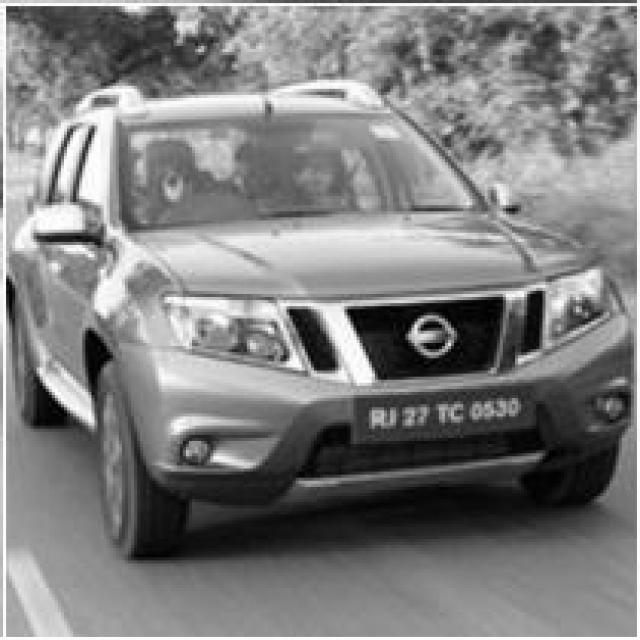car: (9, 74, 640, 564)
license-plate: (353, 380, 542, 450)
